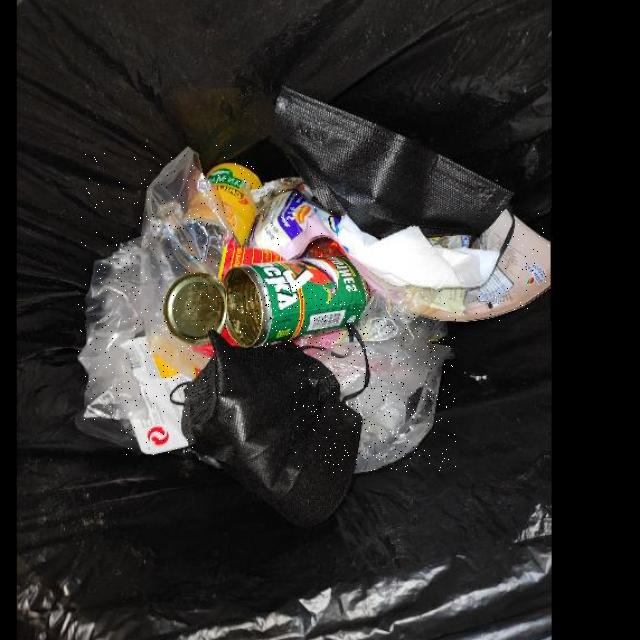metal: (164, 255, 371, 347), (207, 162, 263, 248)
paper: (337, 213, 502, 288)
plastic: (78, 145, 233, 420), (294, 314, 456, 473)
wrapper: (423, 208, 552, 321), (219, 189, 339, 282), (121, 336, 193, 454)
